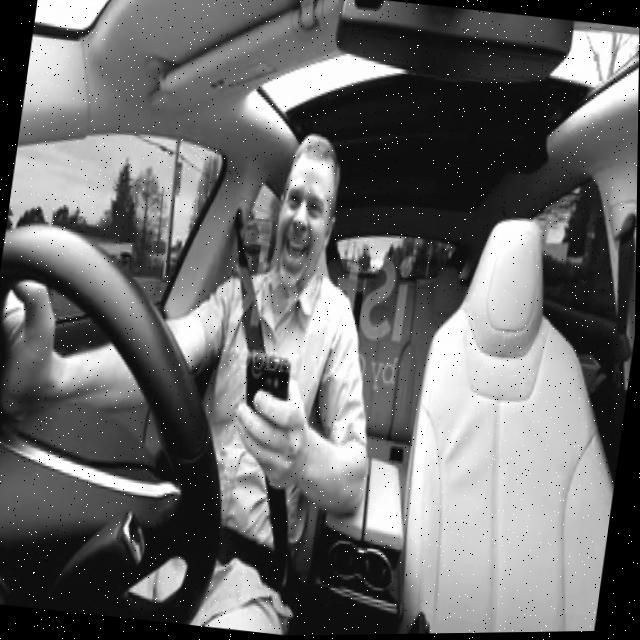PhoneCall: (236, 348, 294, 449)
